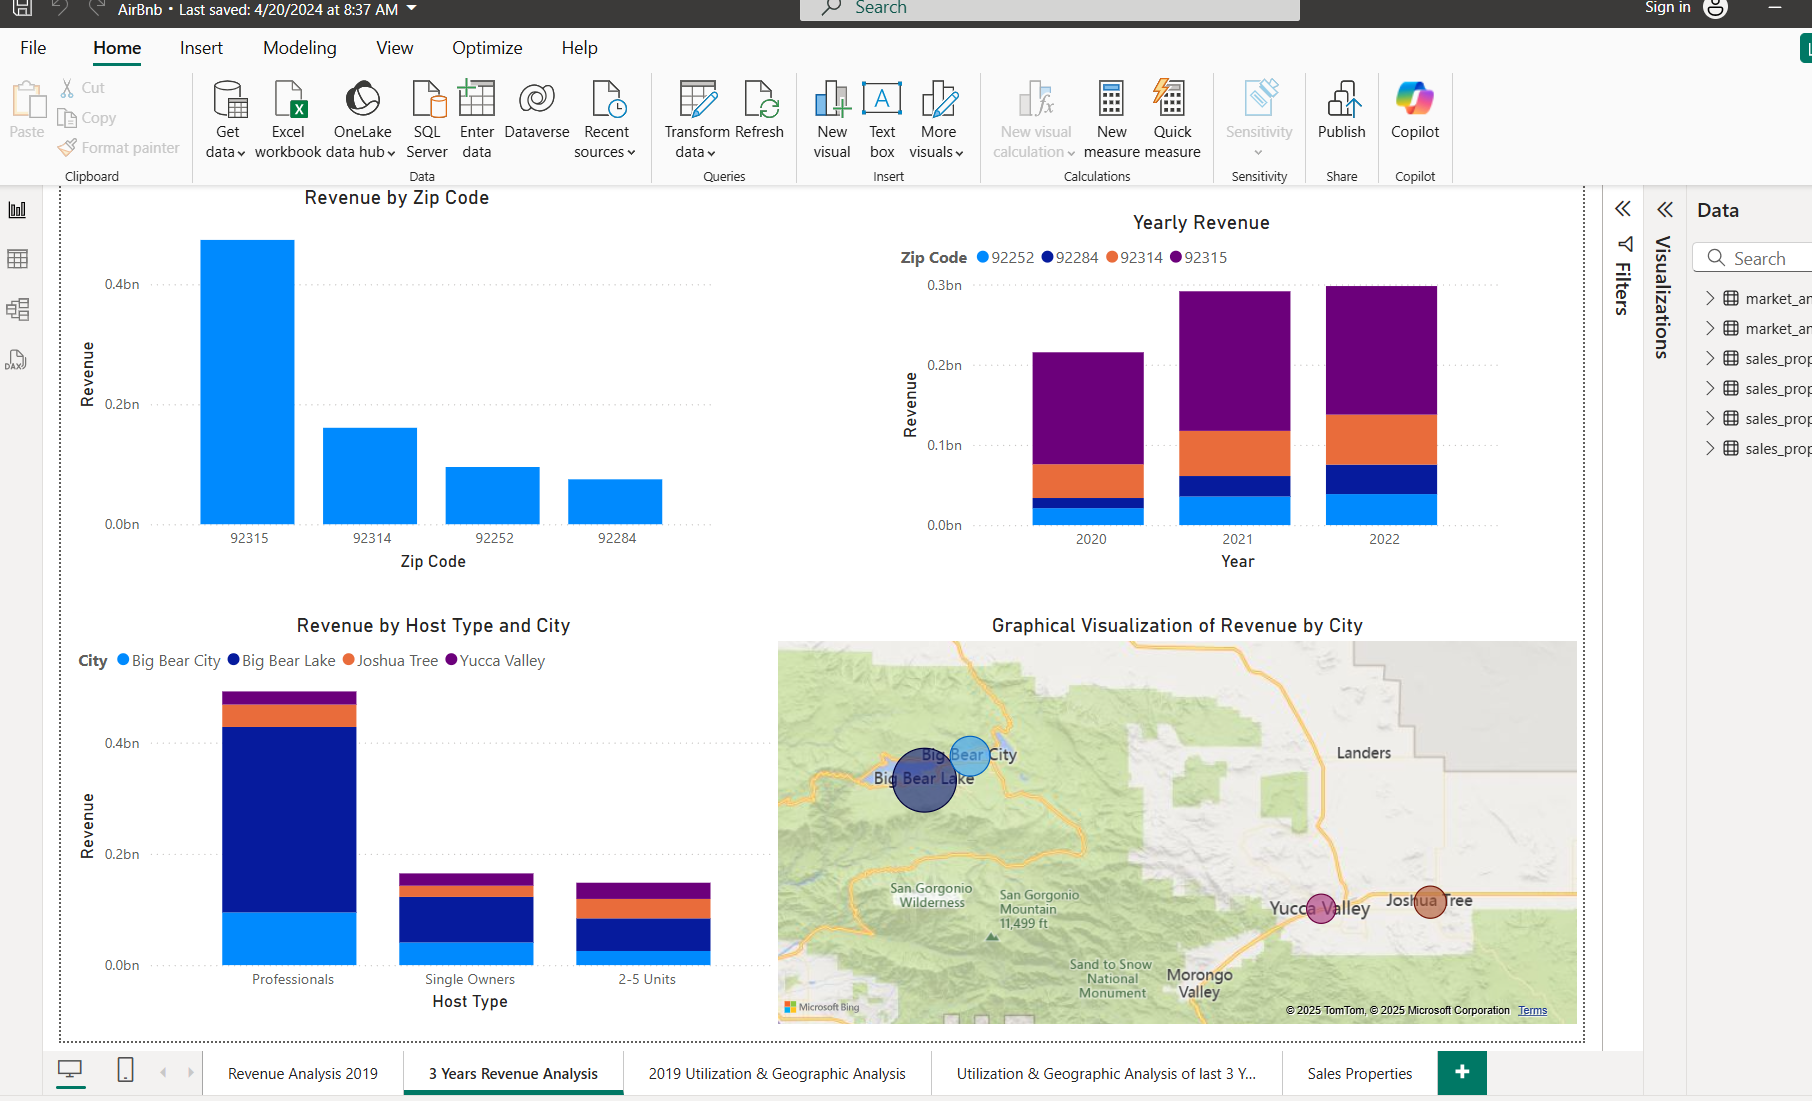

Layout of this report page (visuals, bound fields, positions):
{"tool":"powerbi","page":{"name":"3 Years Revenue Analysis","canvas":[1280,720],"ordinal":1},"visuals":[{"type":"columnChart","fields":{"Category":["market_analysis.zipcode"],"Y":["Sum(market_analysis.revenue)"]},"box":[9.6,0,546.1,329.3],"z":0},{"type":"columnChart","title":"Yearly Revenue","fields":{"Y":["Sum(market_analysis.revenue)"],"Category":["market_analysis.month.Variation.Date Hierarchy.Year"],"Series":["market_analysis.zipcode"]},"box":[701.2,20.6,516,308.7],"z":1000},{"type":"columnChart","fields":{"Y":["Sum(market_analysis.revenue)"],"Category":["market_analysis.host_type"],"Series":["market_analysis.city"]},"box":[9.6,359.5,607.9,340.3],"z":2000},{"type":"map","title":"Graphical Visualization of Revenue by City","fields":{"Category":["market_analysis.city"],"Size":["Sum(market_analysis.revenue)"]},"box":[598.3,359.5,682,351.3],"z":3000}]}

Visuals, with their boxes on the page's 1280x720 design canvas (x1, y1, x2, y2). These are canvas units, not pixel positions in the 1812x1101 screenshot, which may show the page scaled, cropped or inside an application window:
columnChart - market_analysis.zipcode x Sum(market_analysis.revenue): [left=10, top=0, right=556, bottom=329]
"Yearly Revenue" columnChart: [left=701, top=21, right=1217, bottom=329]
columnChart - Sum(market_analysis.revenue) x market_analysis.host_type: [left=10, top=360, right=618, bottom=700]
"Graphical Visualization of Revenue by City" map: [left=598, top=360, right=1280, bottom=711]
